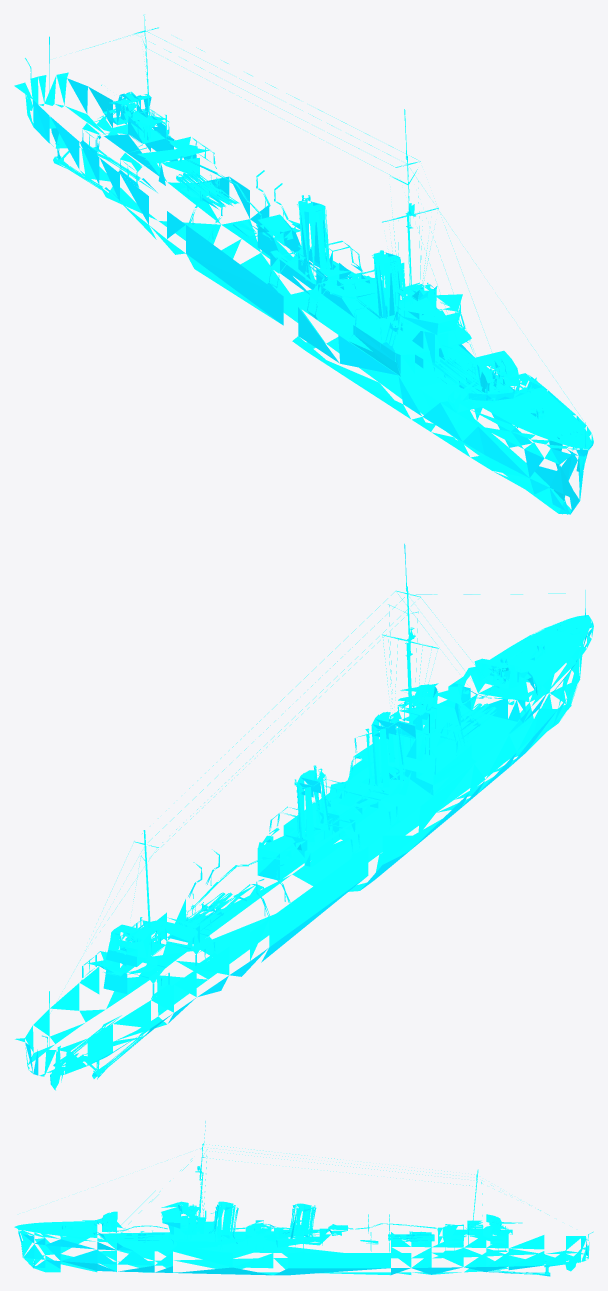
The model's file is PJSD005.glb.
The picture shows the model from 3 angles, top to bottom: view 1: azimuth 30°, elevation 25°; view 2: azimuth 150°, elevation 25°; view 3: azimuth 270°, elevation 25°; orthographic projection. The views are drawn at different scales.
Parts seen in each view (by area): view 1: hull; view 2: hull; view 3: hull.
Part boxes in pixels (x1,y1,x2,y2): hull: [14, 14, 593, 514]; hull: [15, 543, 593, 1090]; hull: [14, 1121, 593, 1276].
Size of the model in its own units: 0.6057 by 1.99 by 6.86.
